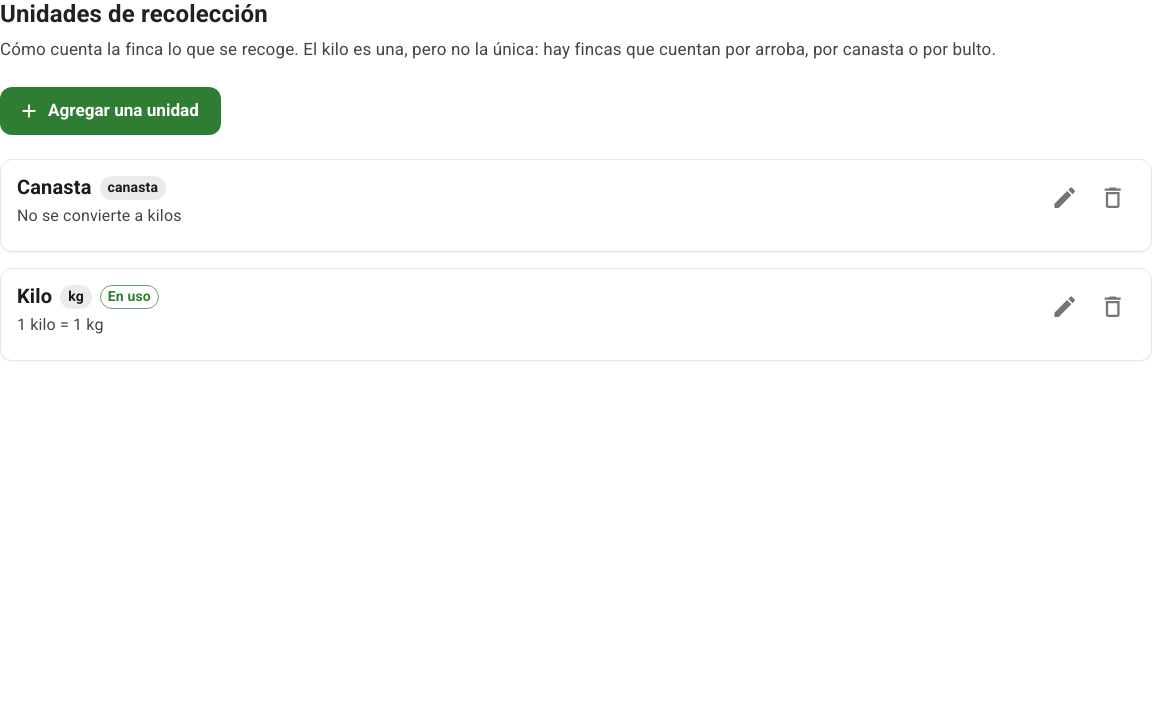
it: units of collection › offers a real deletion only for a unit nobody used
This screenshot has width=1152, height=720.
Click the button named "Quitar Canasta".
click(1113, 198)  # box [1091, 176, 1135, 220]
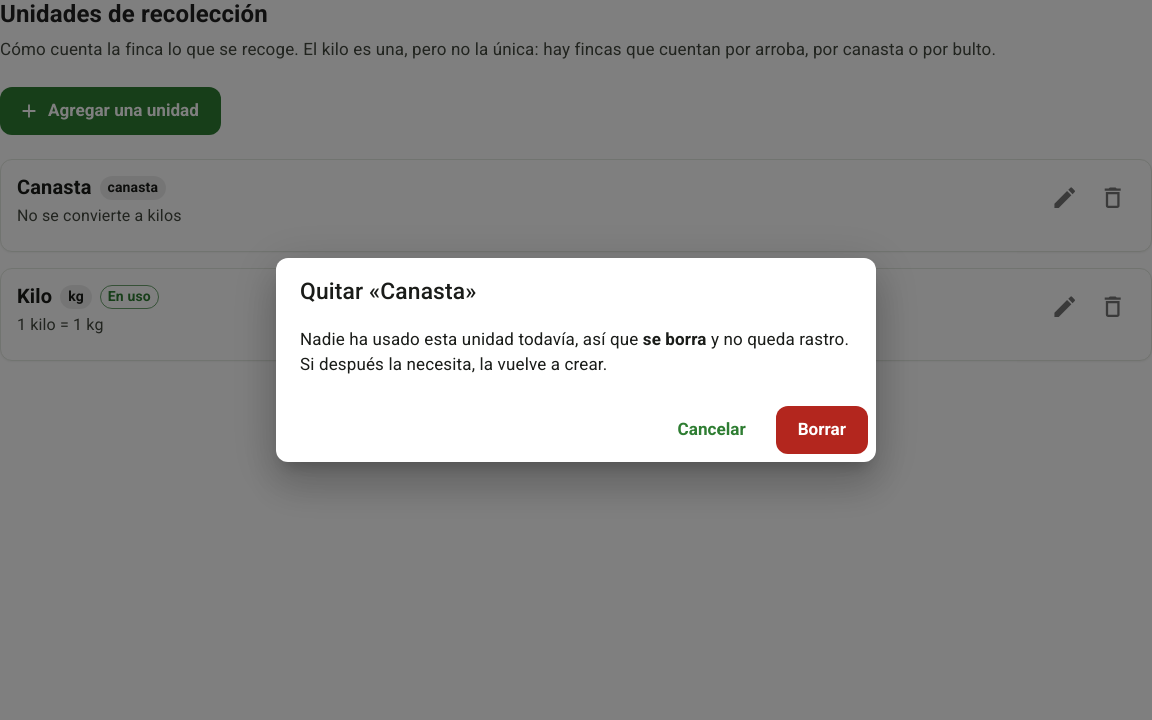
Check: the text "se borra" is shown, box [643, 329, 707, 349]
Check: the button "Borrar" is shown, box [776, 406, 868, 454]
